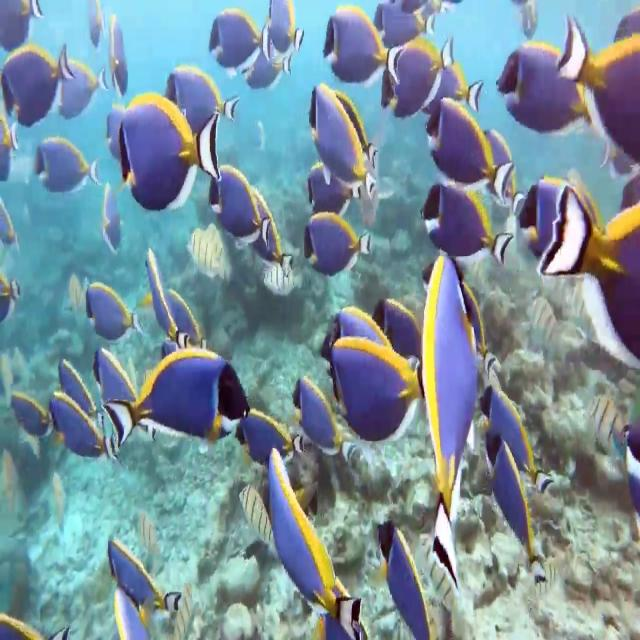fish: (427, 251, 488, 604), (100, 342, 252, 472), (537, 180, 640, 358), (258, 439, 360, 611), (112, 97, 225, 235), (557, 0, 640, 161), (502, 24, 600, 160), (332, 325, 427, 445), (425, 94, 511, 216), (418, 170, 520, 272), (488, 432, 546, 596), (371, 28, 464, 128), (308, 76, 381, 184), (109, 529, 195, 617), (288, 360, 366, 456), (160, 61, 250, 138), (0, 44, 74, 130), (207, 158, 271, 256), (298, 208, 376, 288), (320, 3, 388, 81), (83, 268, 138, 354), (317, 295, 385, 363), (26, 135, 102, 195), (235, 406, 303, 472), (300, 158, 366, 225), (200, 2, 266, 69), (50, 389, 110, 461), (251, 185, 291, 282), (5, 384, 55, 454), (0, 598, 78, 640), (261, 0, 305, 62), (240, 46, 292, 98), (58, 352, 98, 408)
